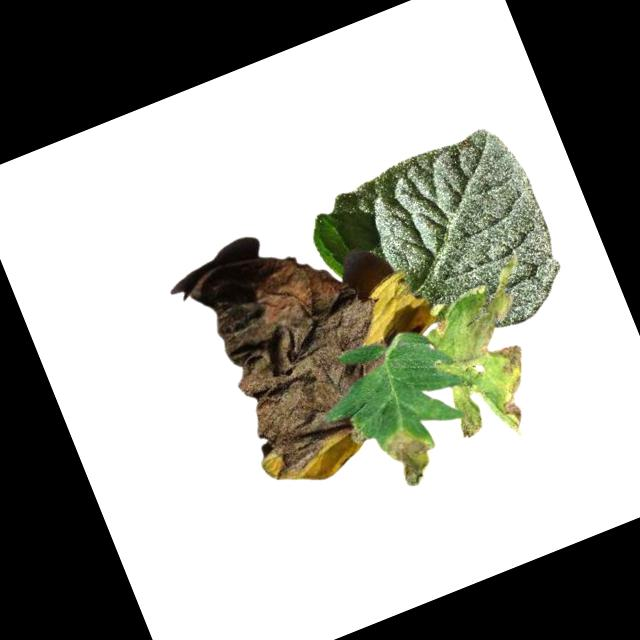Late_blight: (194, 234, 431, 500), (416, 286, 554, 451), (345, 266, 443, 361), (378, 417, 446, 491)
